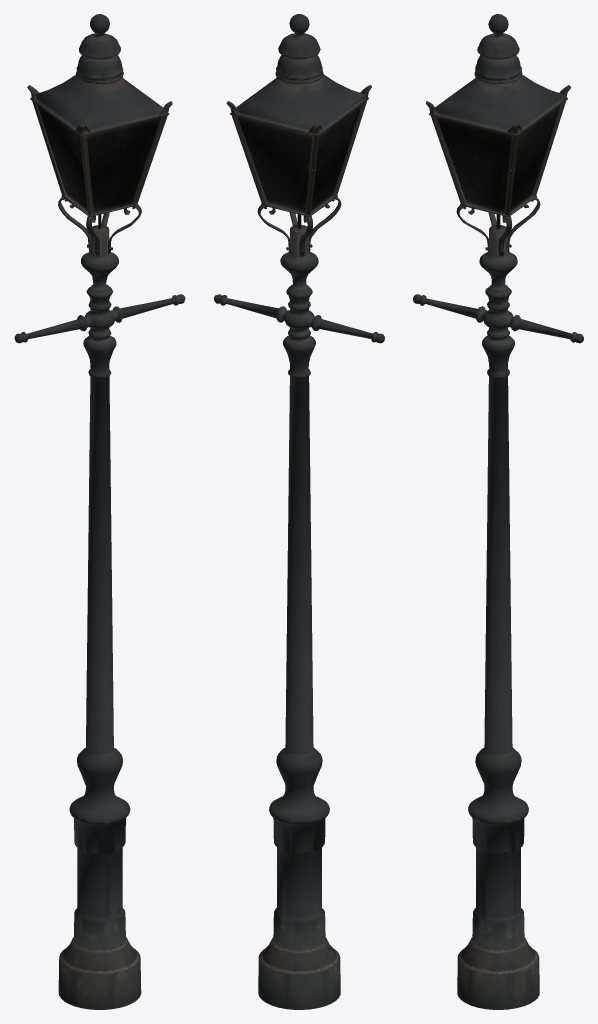
The model's file is street_lamp_01.glb.
The picture shows the model from 3 angles, left to right: view 1: azimuth 30°, elevation 25°; view 2: azimuth 150°, elevation 25°; view 3: azimuth 330°, elevation 25°; orthographic projection.
Visible parts, largest first — view 1: street_lamp_01; view 2: street_lamp_01; view 3: street_lamp_01.
Part boxes in pixels (x1=…): street_lamp_01: x1=14, y1=14, x2=185, y2=1009; street_lamp_01: x1=214, y1=14, x2=384, y2=1009; street_lamp_01: x1=413, y1=14, x2=583, y2=1009.
Size of the model in its own units: 0.7044 by 3.87 by 0.386.
2 materials, 2 textured.
